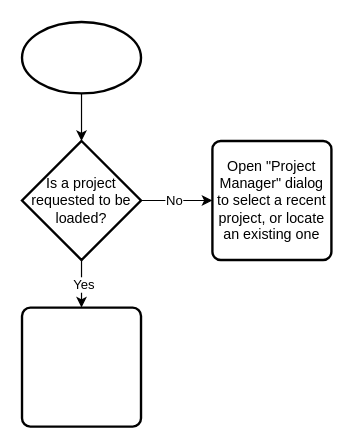
Some shapes in this 352 by 447 pixel diagram are drawn without their labels. Each missing label, with the centre of its shape:
Application Launched: point (81, 57)
Change title, load directory and all previously opened tabs.: point (81, 366)
